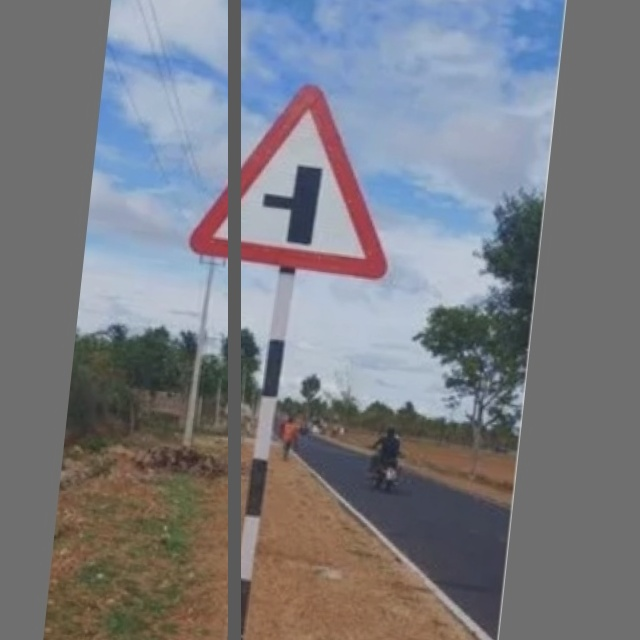Side_Road_Left: (190, 76, 407, 288)
